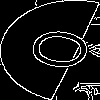O: (25, 25, 100, 77)
